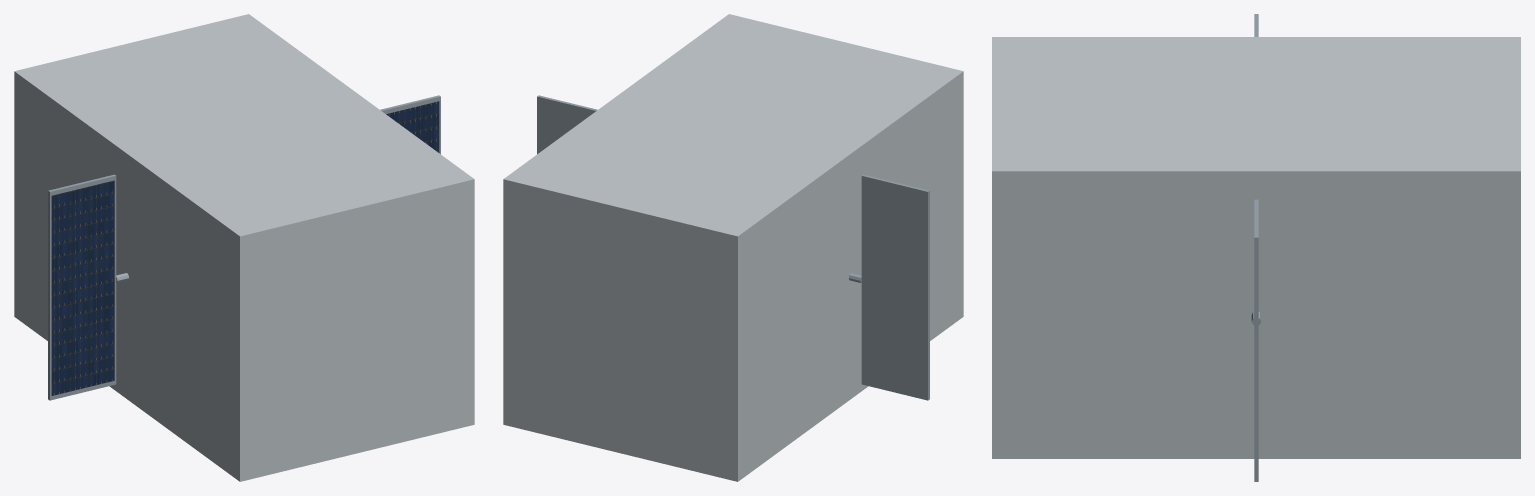
The model's file is ref-abrixas-25721.glb.
The picture shows the model from 3 angles, left to right: view 1: azimuth 30°, elevation 25°; view 2: azimuth 150°, elevation 25°; view 3: azimuth 270°, elevation 25°; orthographic projection. The views are drawn at different scales.
Parts seen in each view (by area): view 1: Spacecraft body, Photovoltaic laminates (×2), Array frame (×2); view 2: Spacecraft body, Array frame (×2); view 3: Spacecraft body, Array frame.
Boxes of the visible parts, left/top/right/bottom form: Spacecraft body: left=14, top=14, right=474, bottom=481; Photovoltaic laminates (×2): left=51, top=101, right=439, bottom=395; Array frame (×2): left=48, top=95, right=440, bottom=400; Spacecraft body: left=503, top=14, right=963, bottom=481; Array frame (×2): left=537, top=95, right=929, bottom=400; Spacecraft body: left=992, top=37, right=1520, bottom=458; Array frame: left=1254, top=199, right=1258, bottom=481.
Size of the model in its own units: 2.5 by 1.5 by 2.5.
3 materials, 1 textured.
